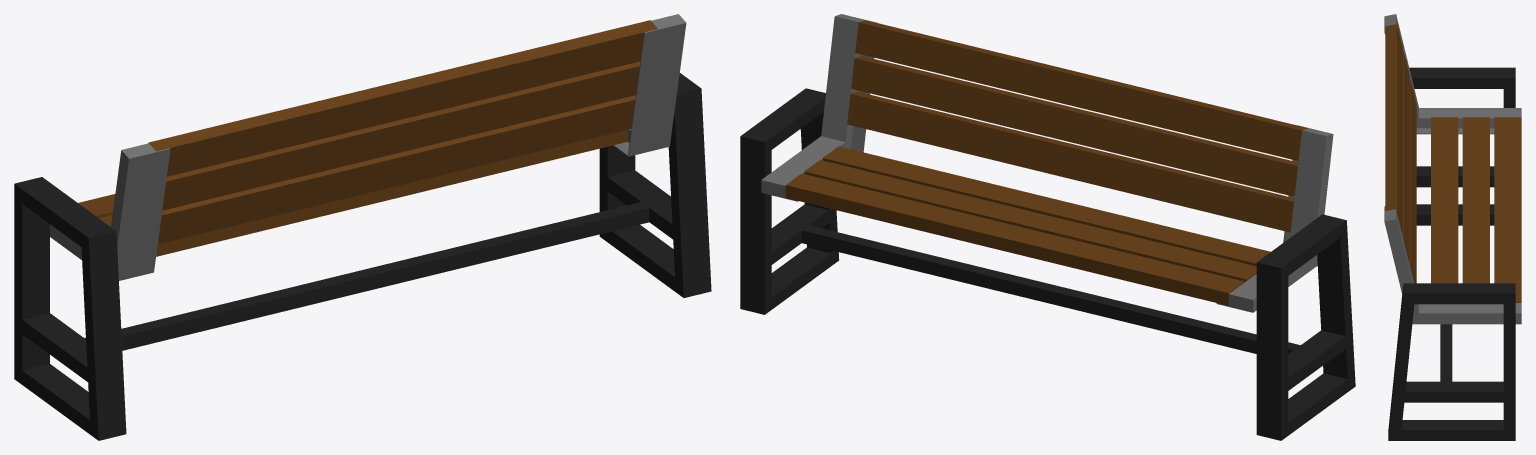
3 renders of one model, left to right at view 1: azimuth 30°, elevation 25°; view 2: azimuth 150°, elevation 25°; view 3: azimuth 270°, elevation 25°, orthographic. The views are drawn at different scales.
Visible parts, largest first — view 1: mesh11_mesh11-geometry, mesh21_mesh21-geometry, mesh13_mesh13-geometry, mesh15_mesh15-geometry, mesh17_mesh17-geometry, mesh26_mesh26-geometry, mesh5_mesh5-geometry, mesh9_mesh9-geometry, mesh1_mesh1-geometry, mesh19_mesh19-geometry, mesh24_mesh24-geometry; view 2: mesh11_mesh11-geometry, mesh13_mesh13-geometry, mesh15_mesh15-geometry, mesh21_mesh21-geometry, mesh3_mesh3-geometry, mesh26_mesh26-geometry, mesh17_mesh17-geometry, mesh7_mesh7-geometry, mesh9_mesh9-geometry, mesh1_mesh1-geometry, mesh5_mesh5-geometry, mesh19_mesh19-geometry (+1 smaller); view 3: mesh26_mesh26-geometry, mesh3_mesh3-geometry, mesh7_mesh7-geometry, mesh9_mesh9-geometry, mesh11_mesh11-geometry, mesh1_mesh1-geometry, mesh21_mesh21-geometry, mesh24_mesh24-geometry, mesh5_mesh5-geometry, mesh15_mesh15-geometry, mesh13_mesh13-geometry, mesh17_mesh17-geometry (+1 smaller).
Part boxes in pixels (x1=…): mesh11_mesh11-geometry: x1=148, y1=20, x2=657, y2=176; mesh21_mesh21-geometry: x1=14, y1=177, x2=126, y2=440; mesh13_mesh13-geometry: x1=162, y1=61, x2=640, y2=210; mesh15_mesh15-geometry: x1=158, y1=95, x2=635, y2=244; mesh17_mesh17-geometry: x1=84, y1=202, x2=649, y2=350; mesh26_mesh26-geometry: x1=599, y1=73, x2=711, y2=297; mesh5_mesh5-geometry: x1=50, y1=143, x2=170, y2=280; mesh9_mesh9-geometry: x1=156, y1=130, x2=627, y2=256; mesh1_mesh1-geometry: x1=613, y1=14, x2=686, y2=156; mesh19_mesh19-geometry: x1=22, y1=313, x2=87, y2=381; mesh24_mesh24-geometry: x1=607, y1=170, x2=673, y2=239; mesh11_mesh11-geometry: x1=855, y1=20, x2=1307, y2=160; mesh13_mesh13-geometry: x1=851, y1=56, x2=1298, y2=196; mesh15_mesh15-geometry: x1=847, y1=91, x2=1294, y2=232; mesh21_mesh21-geometry: x1=1256, y1=214, x2=1355, y2=440; mesh3_mesh3-geometry: x1=785, y1=173, x2=1244, y2=305; mesh26_mesh26-geometry: x1=740, y1=88, x2=839, y2=314; mesh17_mesh17-geometry: x1=801, y1=225, x2=1300, y2=353; mesh7_mesh7-geometry: x1=804, y1=160, x2=1256, y2=281; mesh9_mesh9-geometry: x1=822, y1=146, x2=1270, y2=266; mesh1_mesh1-geometry: x1=761, y1=14, x2=877, y2=201; mesh5_mesh5-geometry: x1=1216, y1=125, x2=1333, y2=312; mesh19_mesh19-geometry: x1=1288, y1=330, x2=1346, y2=390; mesh26_mesh26-geometry: x1=1388, y1=283, x2=1515, y2=440; mesh3_mesh3-geometry: x1=1494, y1=117, x2=1521, y2=302; mesh7_mesh7-geometry: x1=1462, y1=117, x2=1489, y2=283; mesh9_mesh9-geometry: x1=1431, y1=117, x2=1458, y2=283; mesh11_mesh11-geometry: x1=1385, y1=24, x2=1402, y2=232; mesh1_mesh1-geometry: x1=1384, y1=206, x2=1521, y2=324; mesh21_mesh21-geometry: x1=1409, y1=67, x2=1515, y2=225; mesh24_mesh24-geometry: x1=1404, y1=381, x2=1503, y2=402; mesh5_mesh5-geometry: x1=1384, y1=14, x2=1521, y2=134; mesh15_mesh15-geometry: x1=1409, y1=80, x2=1416, y2=283; mesh13_mesh13-geometry: x1=1402, y1=52, x2=1409, y2=260; mesh17_mesh17-geometry: x1=1440, y1=324, x2=1452, y2=381.
Bounding box in the file's own units: 0.8917 × 0.3903 × 0.2293.
